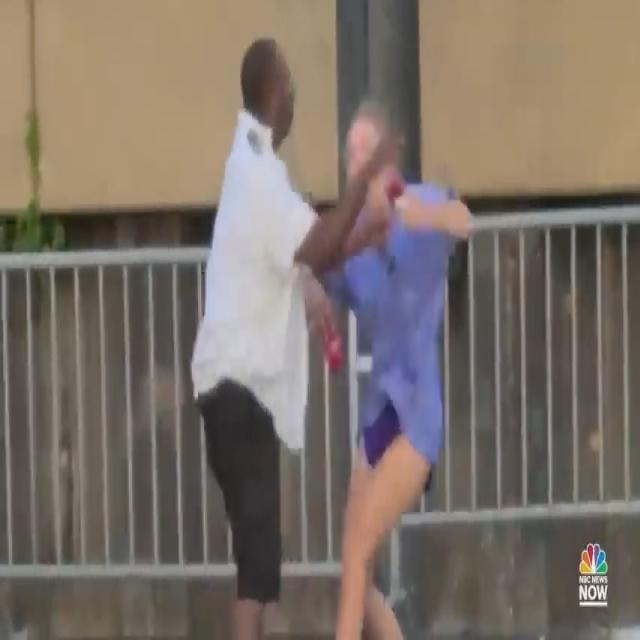fight: (185, 4, 482, 640)
